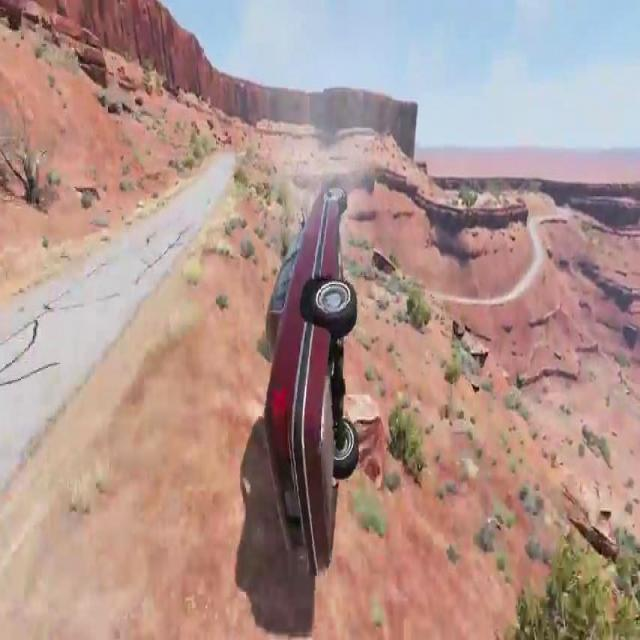severe: (258, 170, 362, 584)
